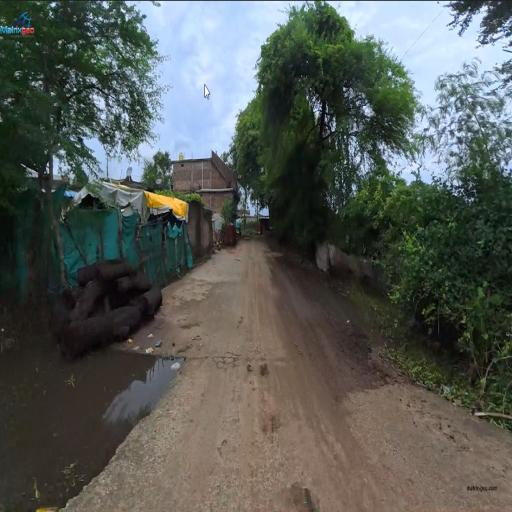alligator_crack: (194, 344, 251, 378)
